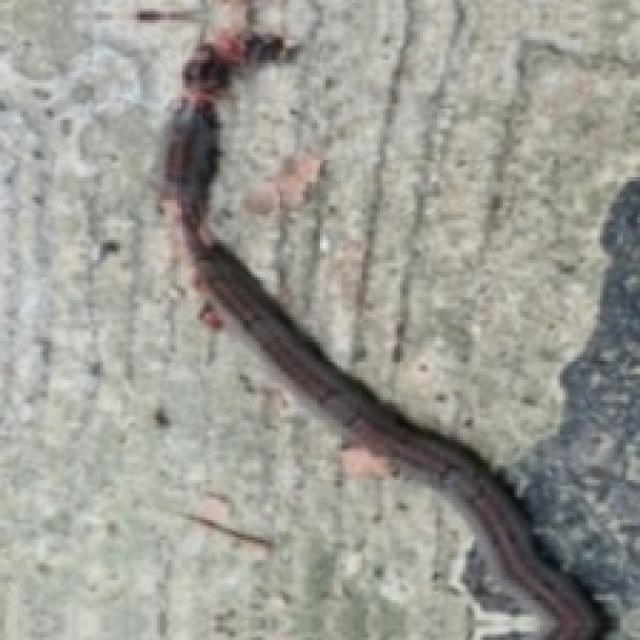northern short-headed snake: (179, 202, 599, 640)
